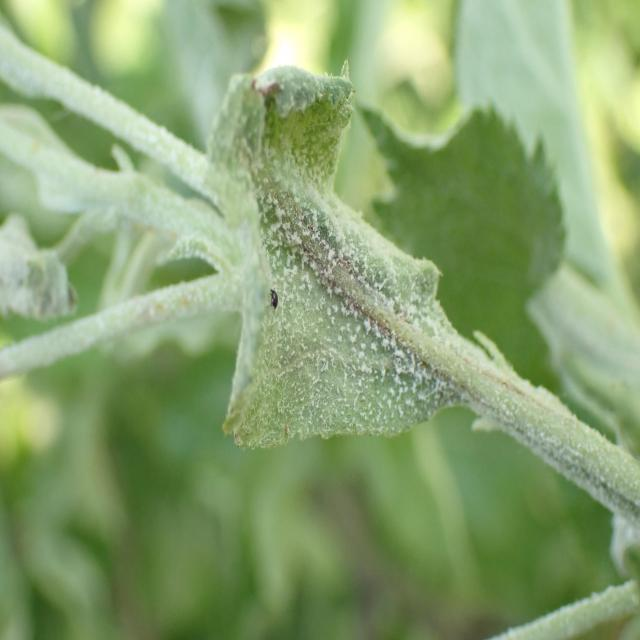Powdery_mildew: (182, 41, 544, 473)
